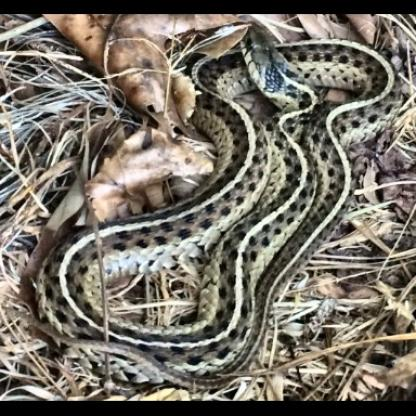Snake: (22, 26, 403, 387)
